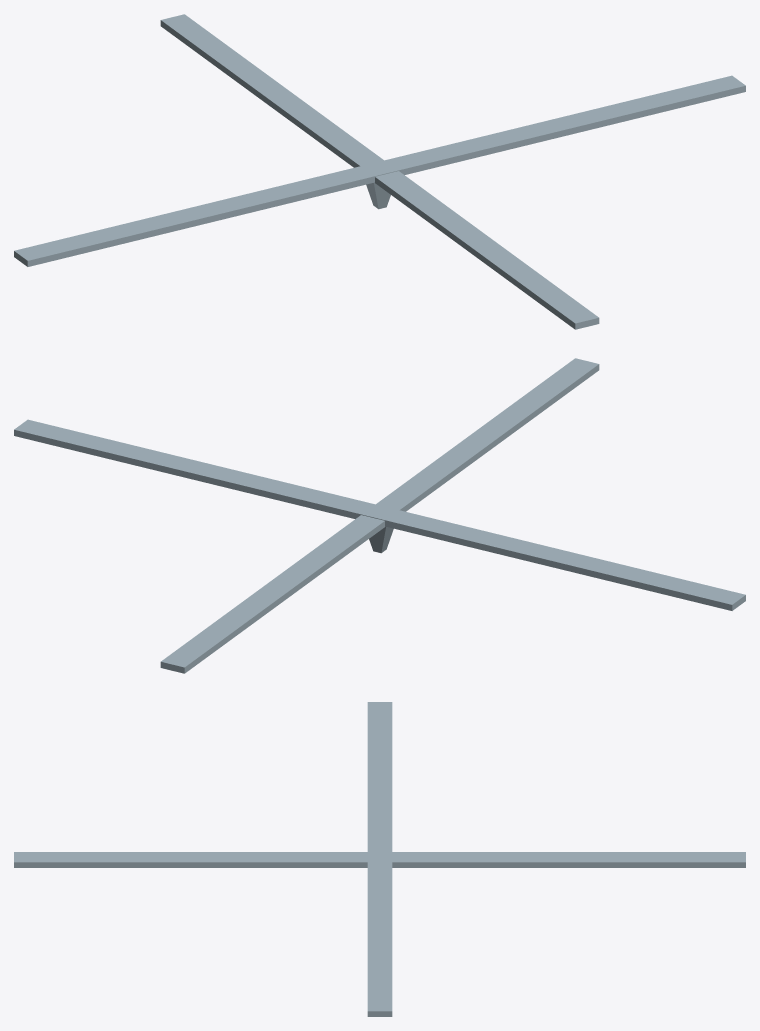
The model's file is FriendlyHeliWings.fbx.
3 renders of one model, top to bottom at view 1: azimuth 30°, elevation 25°; view 2: azimuth 150°, elevation 25°; view 3: azimuth 270°, elevation 25°, orthographic. The views are drawn at different scales.
Visible parts, largest first — view 1: FriendlyHeliWings; view 2: FriendlyHeliWings; view 3: FriendlyHeliWings.
Part boxes in pixels (bbox=[...]): FriendlyHeliWings: bbox=[14, 14, 745, 329]; FriendlyHeliWings: bbox=[14, 358, 745, 673]; FriendlyHeliWings: bbox=[14, 702, 745, 1016].
Size of the model in its own units: 2400 by 122 by 2400.
